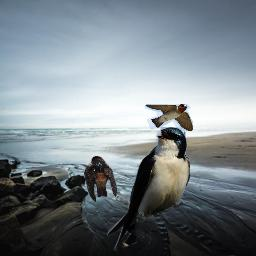Swallow: (107, 127, 190, 251), (84, 156, 117, 202), (145, 104, 193, 131)
